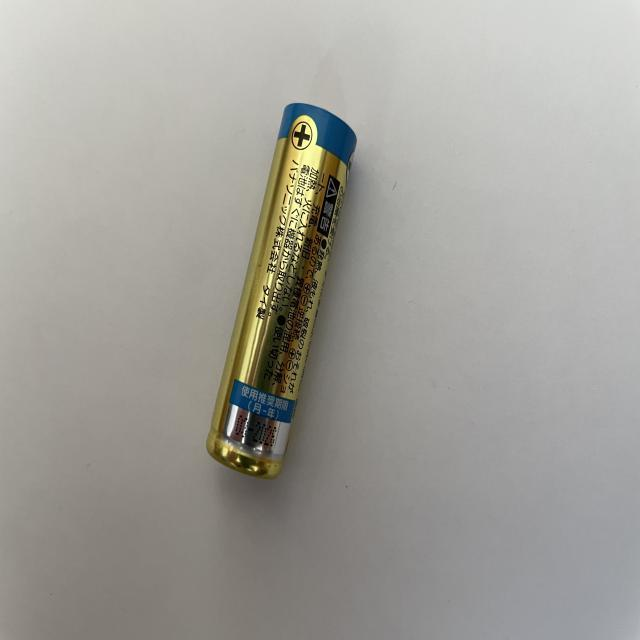hazardous waste: (204, 102, 358, 482)
